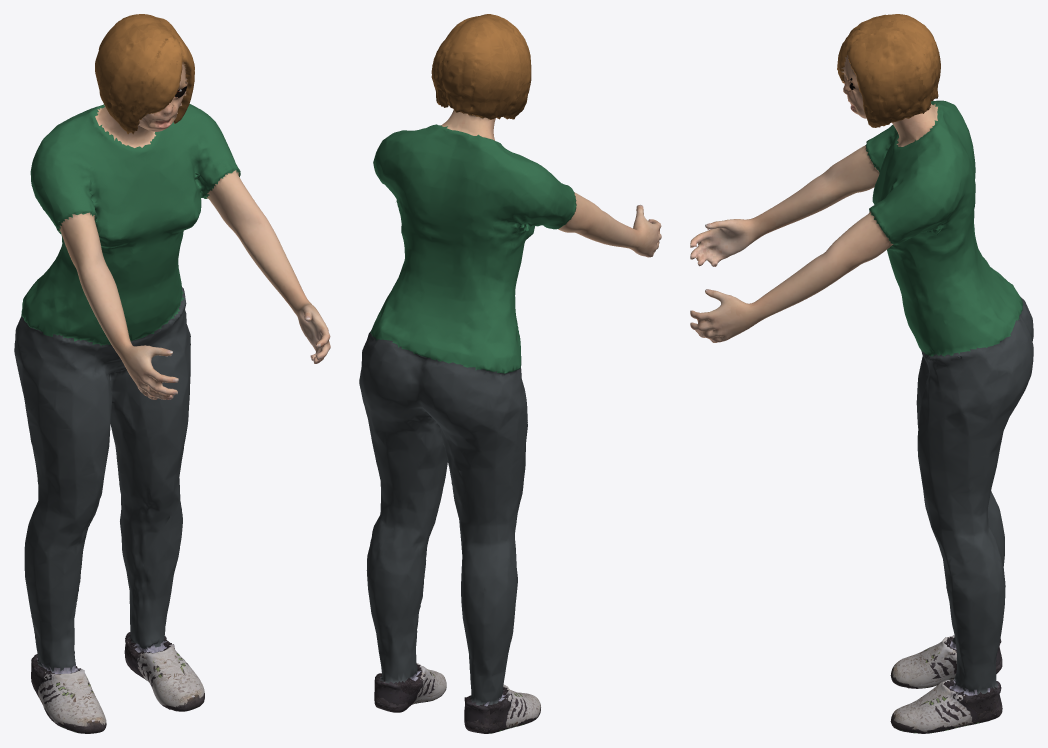
File: terrace-host.glb
3 views of the same model, side by side, from view 1: azimuth 30°, elevation 25°; view 2: azimuth 150°, elevation 25°; view 3: azimuth 270°, elevation 25° (orthographic). The views are drawn at different scales.
Visible parts, largest first — view 1: terrace-host; view 2: terrace-host; view 3: terrace-host.
Boxes of the visible parts, x1,y1,x2,y2 form: terrace-host: (14, 14, 330, 733); terrace-host: (359, 14, 661, 733); terrace-host: (690, 14, 1033, 733).
Bounding box in the file's own units: 0.4776 × 1.67 × 0.7551.
Materials: 8 (8 with a texture image).
